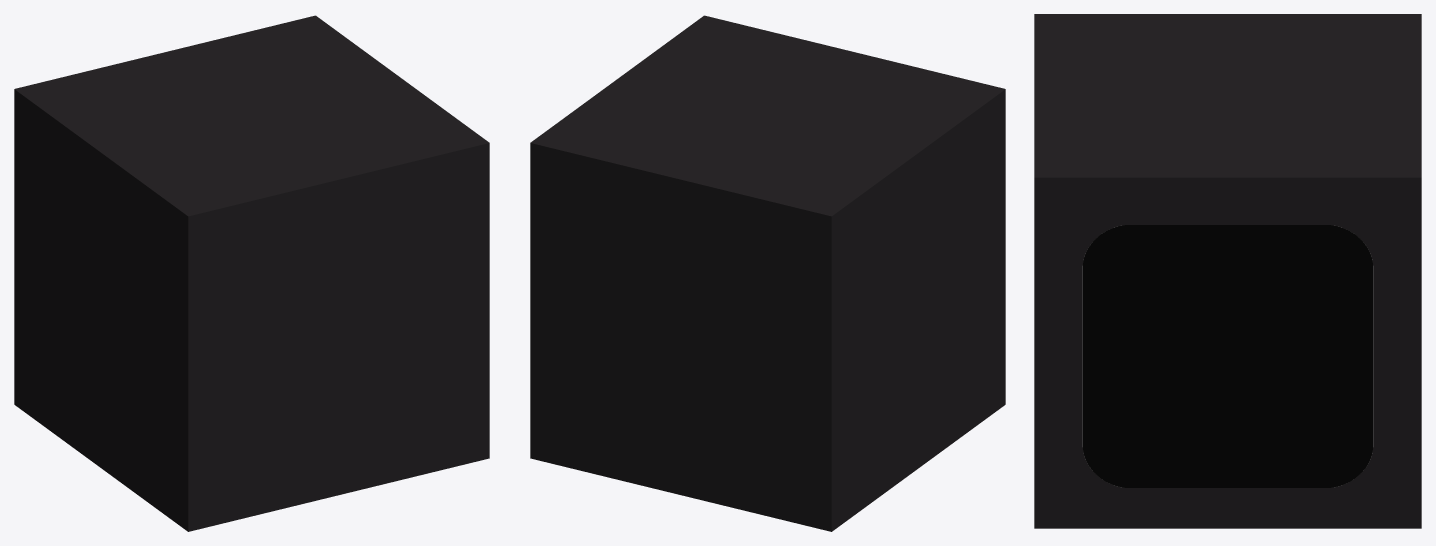
File: port.obj
3 views of the same model, side by side, from view 1: azimuth 30°, elevation 25°; view 2: azimuth 150°, elevation 25°; view 3: azimuth 270°, elevation 25° (orthographic). The views are drawn at different scales.
Parts seen in each view (by area): view 1: Port1; view 2: Port1; view 3: Port1, Port2.
Part boxes in pixels (left/top/right/bottom): Port1: left=14, top=15, right=489, bottom=531; Port1: left=530, top=15, right=1005, bottom=531; Port1: left=1034, top=14, right=1421, bottom=528; Port2: left=1082, top=225, right=1373, bottom=487.
Bounding box in the file's own units: 1.02 × 1 × 1.
Materials: 2 (1 with a texture image).
